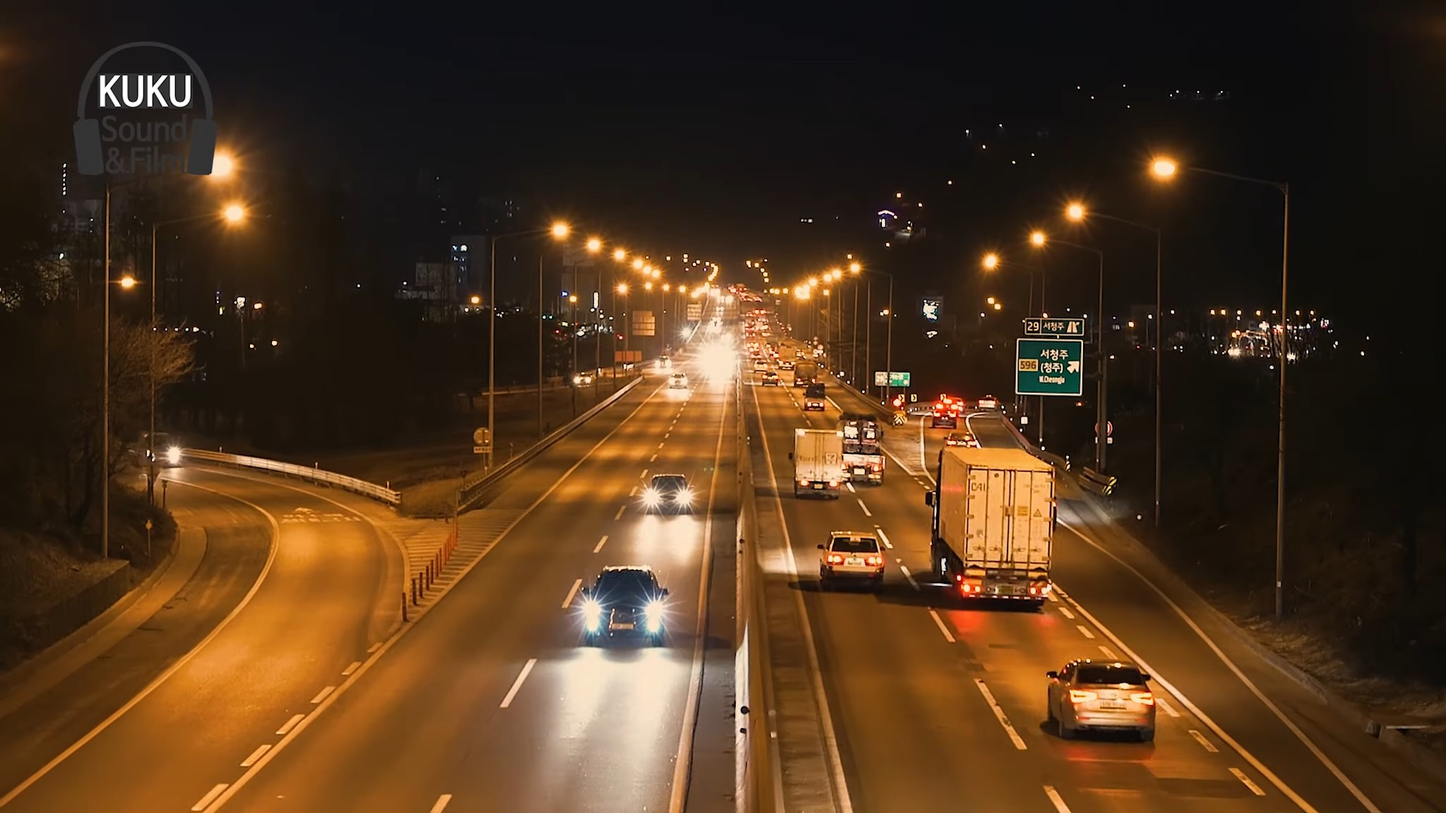car: (1051, 653, 1159, 735), (572, 565, 665, 648), (819, 526, 888, 586), (638, 470, 695, 519)
truck: (932, 434, 1061, 620), (786, 422, 850, 502)
